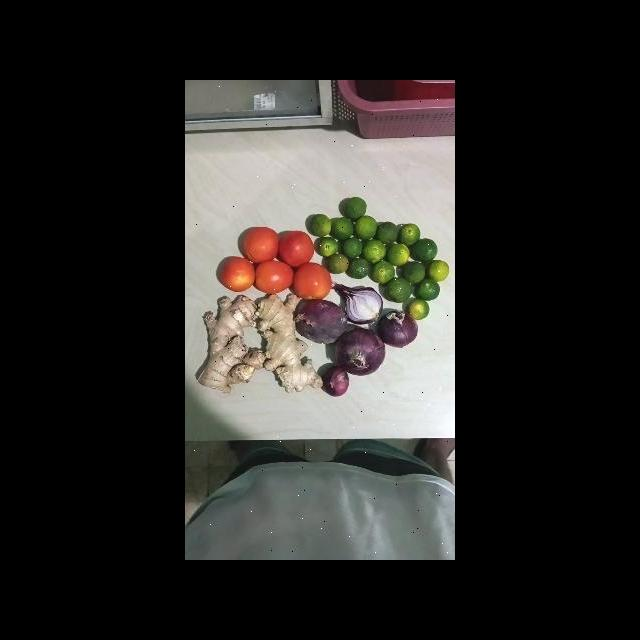ginger: (250, 284, 331, 398), (193, 285, 272, 396)
onion: (290, 293, 352, 349), (331, 326, 395, 379), (329, 278, 390, 329), (372, 304, 425, 352), (315, 360, 363, 400)
